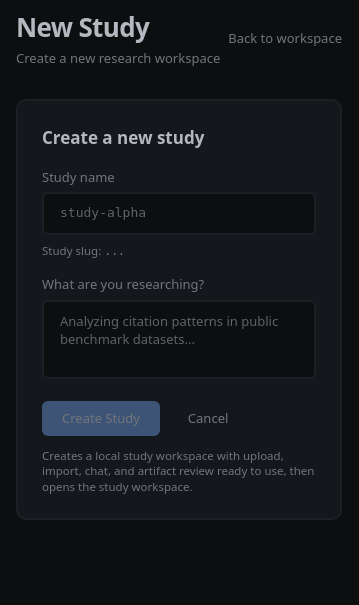
Scenario: DashboardPage › surfaces a create error when the API omits the created study payload
The image size is (359, 605).
Check: the heading "Create a new study" is shown, box 42,126 -> 204,149
Type "My First Test Project" into the field with placeholder "study-alpha" at (179, 214), box 42,192 -> 316,235
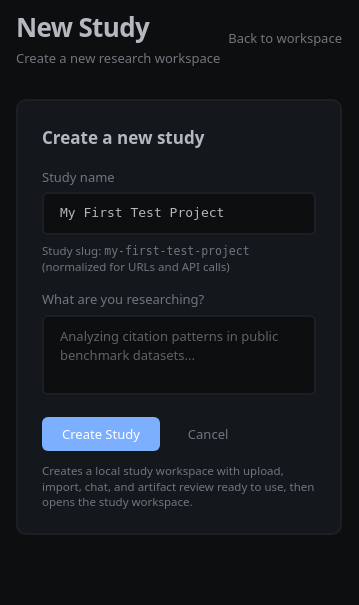
Click the button "Create Study" at (101, 434), box 42,417 -> 160,451
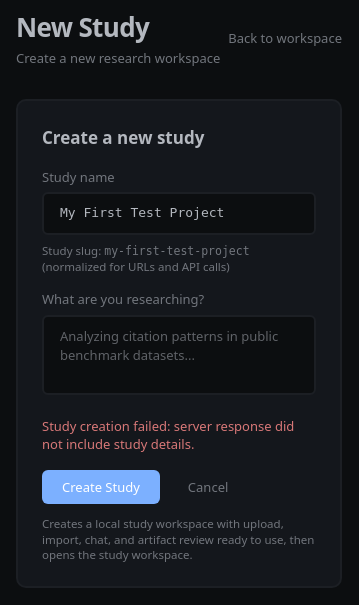
Check: the text "server response did not include study details" is shown, box 42,417 -> 294,453
